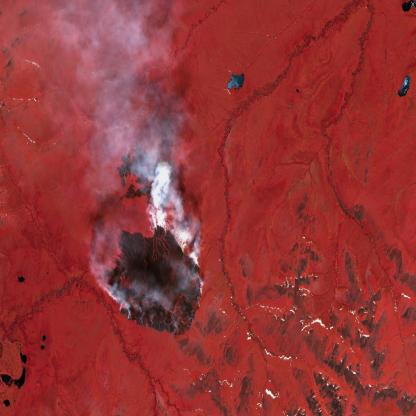fire: (100, 219, 206, 340), (147, 157, 182, 209), (114, 164, 130, 192)
